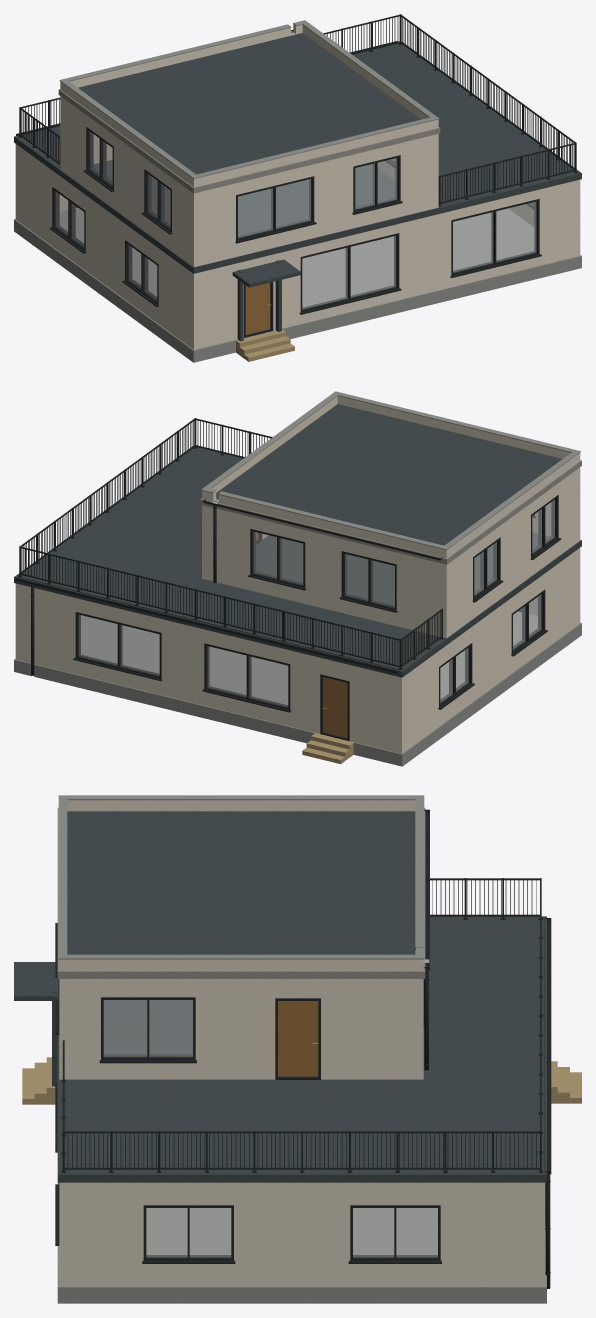
The model's file is modern-villa.glb.
3 renders of one model, top to bottom at view 1: azimuth 30°, elevation 25°; view 2: azimuth 150°, elevation 25°; view 3: azimuth 270°, elevation 25°, orthographic. The views are drawn at different scales.
Parts seen in each view (by area): view 1: Villa lower hollow wall shell with actual openings, Villa upper roof roof weathering membrane, Villa lower roof and upper floor slab, Villa upper hollow wall shell with actual openings, Villa integral raised foundation and ground floor, Villa upper roof unified parapet with real rear scupper, Villa lower front living glazing finite glazing, Villa upper roof unified stone parapet coping, Villa lower front dining glazing finite glazing, Villa upper front bedroom wide glazing finite glazing, Villa upper roof finite concrete roof slab, Villa upper front bedroom second glazing finite glazing (+16 smaller); view 2: Villa lower roof and upper floor slab, Villa lower hollow wall shell with actual openings, Villa upper roof roof weathering membrane, Villa upper hollow wall shell with actual openings, Villa integral raised foundation and ground floor, Villa upper roof unified parapet with real rear scupper, Villa upper roof unified stone parapet coping, Villa lower rear living window finite glazing, Villa lower rear dining window finite glazing, Villa upper roof finite concrete roof slab, Villa upper north upper glazing finite glazing, Villa upper north upper second glazing finite glazing (+18 smaller); view 3: Villa lower roof and upper floor slab, Villa upper roof roof weathering membrane, Villa lower hollow wall shell with actual openings, Villa upper hollow wall shell with actual openings, Villa integral raised foundation and ground floor, Villa upper roof unified parapet with real rear scupper, Villa upper roof unified stone parapet coping, Villa upper east upper glazing finite glazing, Villa lower east front window finite glazing, Villa lower east rear window finite glazing, Villa upper roof finite concrete roof slab, Villa upper terrace entrance closed finite door leaf (+9 smaller).
Part boxes in pixels (left/top/right/bottom): Villa lower hollow wall shell with actual openings: left=15, top=144, right=580, bottom=349; Villa upper roof roof weathering membrane: left=78, top=33, right=420, bottom=174; Villa lower roof and upper floor slab: left=14, top=42, right=581, bottom=273; Villa upper hollow wall shell with actual openings: left=60, top=96, right=438, bottom=267; Villa integral raised foundation and ground floor: left=14, top=207, right=581, bottom=362; Villa upper roof unified parapet with real rear scupper: left=60, top=24, right=438, bottom=187; Villa lower front living glazing finite glazing: left=302, top=236, right=395, bottom=309; Villa upper roof unified stone parapet coping: left=59, top=20, right=439, bottom=178; Villa lower front dining glazing finite glazing: left=453, top=202, right=536, bottom=272; Villa upper front bedroom wide glazing finite glazing: left=238, top=179, right=310, bottom=237; Villa upper roof finite concrete roof slab: left=58, top=89, right=440, bottom=193; Villa upper front bedroom second glazing finite glazing: left=355, top=158, right=396, bottom=209; Villa lower roof and upper floor slab: left=14, top=446, right=581, bottom=677; Villa lower hollow wall shell with actual openings: left=15, top=548, right=580, bottom=753; Villa upper roof roof weathering membrane: left=216, top=404, right=562, bottom=545; Villa upper hollow wall shell with actual openings: left=202, top=467, right=580, bottom=638; Villa integral raised foundation and ground floor: left=14, top=611, right=581, bottom=766; Villa upper roof unified parapet with real rear scupper: left=202, top=396, right=580, bottom=558; Villa upper roof unified stone parapet coping: left=201, top=391, right=580, bottom=550; Villa lower rear living window finite glazing: left=208, top=646, right=287, bottom=706; Villa lower rear dining window finite glazing: left=79, top=615, right=159, bottom=675; Villa upper roof finite concrete roof slab: left=200, top=460, right=581, bottom=564; Villa upper north upper glazing finite glazing: left=345, top=554, right=394, bottom=607; Villa upper north upper second glazing finite glazing: left=253, top=532, right=302, bottom=584; Villa lower roof and upper floor slab: left=57, top=916, right=546, bottom=1182; Villa upper roof roof weathering membrane: left=67, top=811, right=415, bottom=954; Villa lower hollow wall shell with actual openings: left=59, top=1182, right=545, bottom=1286; Villa upper hollow wall shell with actual openings: left=59, top=979, right=423, bottom=1079; Villa integral raised foundation and ground floor: left=57, top=1182, right=546, bottom=1303; Villa upper roof unified parapet with real rear scupper: left=59, top=800, right=423, bottom=970; Villa upper roof unified stone parapet coping: left=58, top=795, right=424, bottom=959; Villa upper east upper glazing finite glazing: left=104, top=1000, right=192, bottom=1056; Villa lower east front window finite glazing: left=146, top=1208, right=230, bottom=1257; Villa lower east rear window finite glazing: left=353, top=1208, right=437, bottom=1257; Villa upper roof finite concrete roof slab: left=57, top=807, right=425, bottom=978; Villa upper terrace entrance closed finite door leaf: left=278, top=1001, right=318, bottom=1076.
Size of the model in its own units: 15.19 by 6.83 by 14.02.
10 materials, 10 textured.
